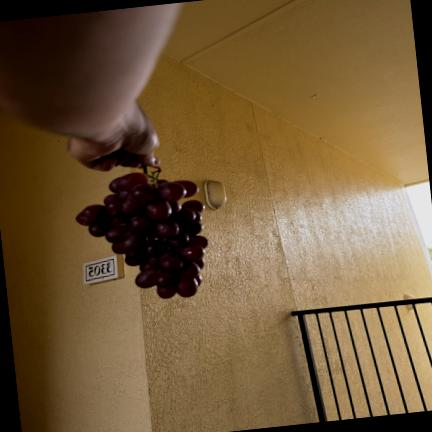grape_cluster: (76, 166, 209, 298)
